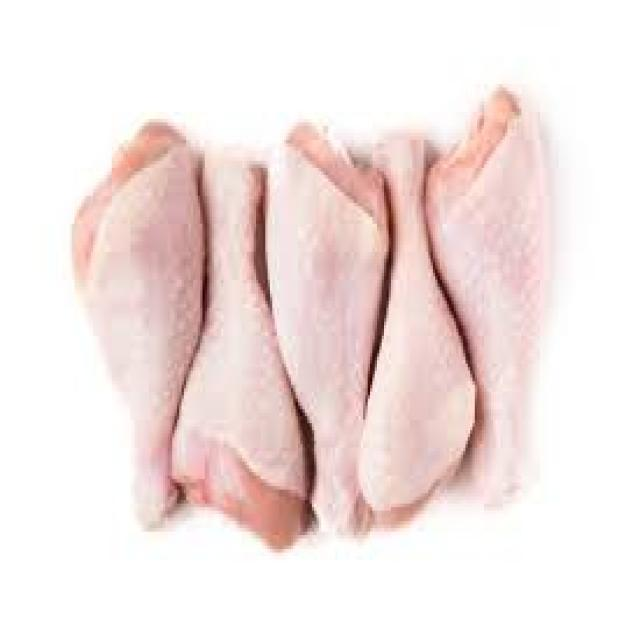leg: (70, 116, 205, 532), (264, 116, 386, 548), (178, 145, 308, 538), (428, 86, 544, 507), (361, 126, 474, 514)
